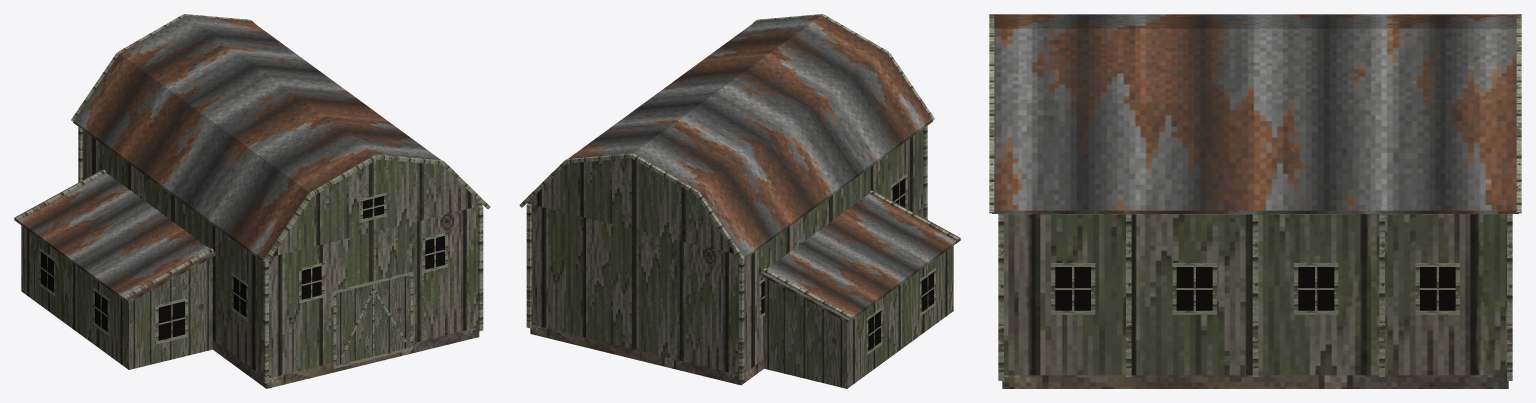
Rendered from Fienile_01_Annesso_Salvia.obj.
The picture shows the model from 3 angles, left to right: view 1: azimuth 30°, elevation 25°; view 2: azimuth 150°, elevation 25°; view 3: azimuth 270°, elevation 25°; orthographic projection. The views are drawn at different scales.
Parts seen in each view (by area): view 1: Fienile_01_Annesso_Salvia; view 2: Fienile_01_Annesso_Salvia; view 3: Fienile_01_Annesso_Salvia.
Part boxes in pixels (x1,y1,x2,y2): Fienile_01_Annesso_Salvia: (14, 14, 490, 388); Fienile_01_Annesso_Salvia: (519, 14, 960, 388); Fienile_01_Annesso_Salvia: (989, 14, 1521, 388).
Bounding box in the file's own units: 11.56 × 7.56 × 12.62.
